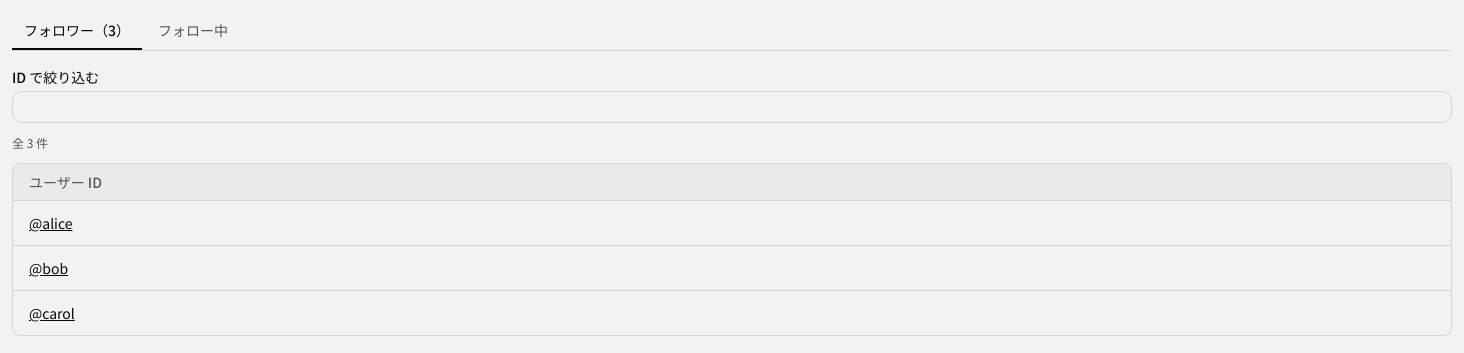
Test case: FollowerListView › フォロー中が未同梱（null）ならタブに件数を出さず案内を表示する（US2）
Click the tab "フォロー中" at x=193, y=31, box [146,12,240,50]
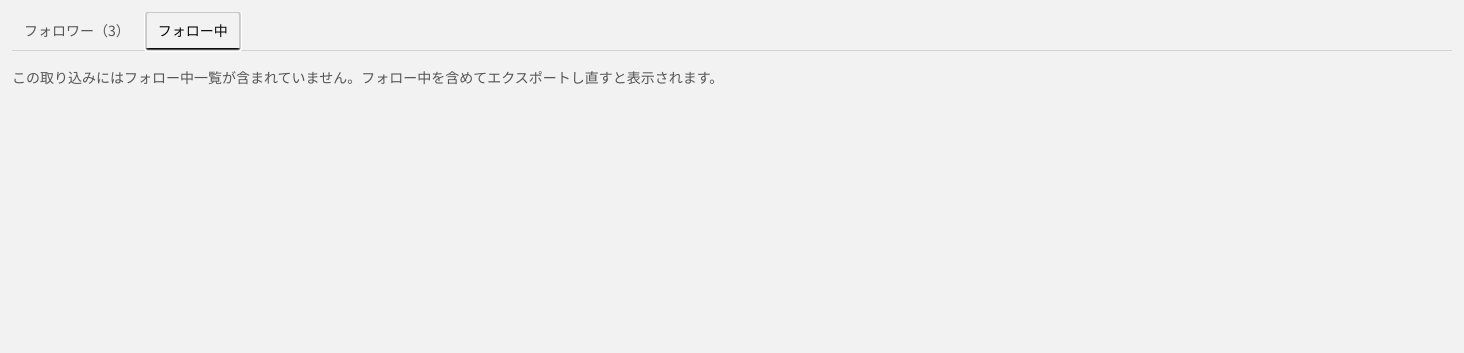
Expected: the text "この取り込みにはフォロー中一覧が含まれていません。フォロー中を含めてエクスポートし直すと表示されます。" is shown, [12,67,723,87]
Expected: the label labelled "ID で絞り込む" is gone
